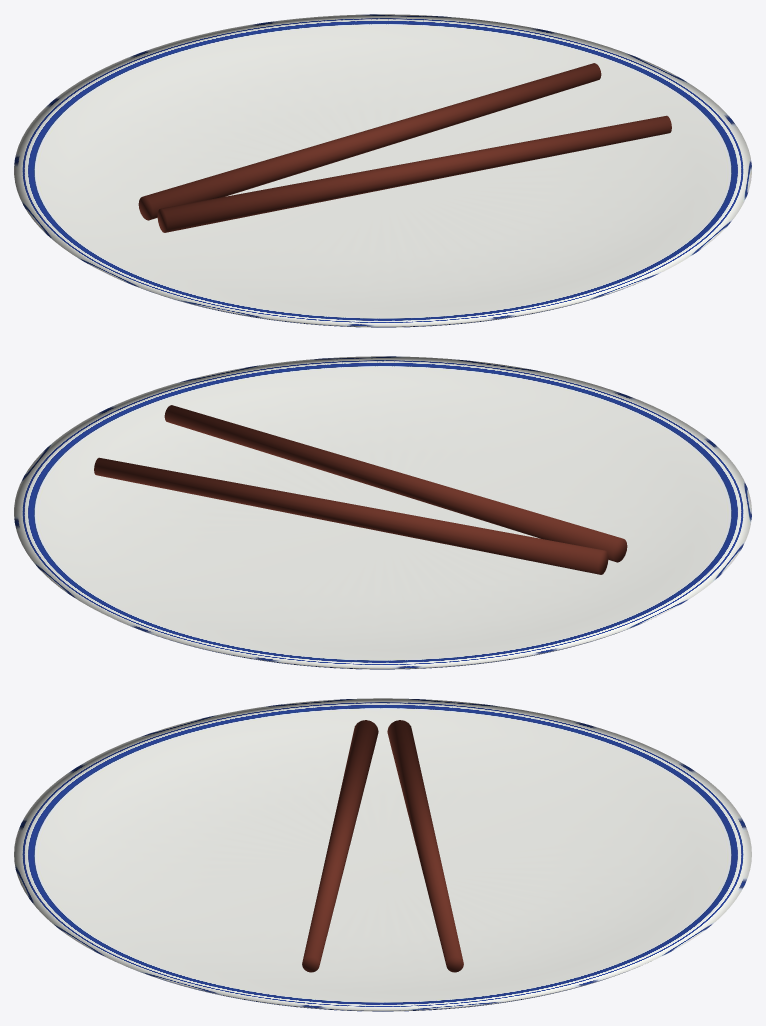
File: chopsticks.glb
3 views of the same model, one above another, from view 1: azimuth 30°, elevation 25°; view 2: azimuth 150°, elevation 25°; view 3: azimuth 270°, elevation 25° (orthographic).
Parts seen in each view (by area): view 1: ChopPlate, Chopstick, Chopstick.001; view 2: ChopPlate, Chopstick.001, Chopstick; view 3: ChopPlate, Chopstick, Chopstick.001.
Part boxes in pixels (bbox=[...]): ChopPlate: bbox=[14, 14, 751, 327]; Chopstick: bbox=[157, 115, 671, 232]; Chopstick.001: bbox=[138, 63, 601, 220]; ChopPlate: bbox=[14, 356, 751, 669]; Chopstick.001: bbox=[94, 457, 608, 574]; Chopstick: bbox=[164, 405, 627, 562]; ChopPlate: bbox=[14, 698, 751, 1011]; Chopstick: bbox=[302, 720, 378, 972]; Chopstick.001: bbox=[387, 720, 463, 972].
Bounding box in the file's own units: 1.25 × 0.084 × 1.25.
Materials: 2 (1 with a texture image).
